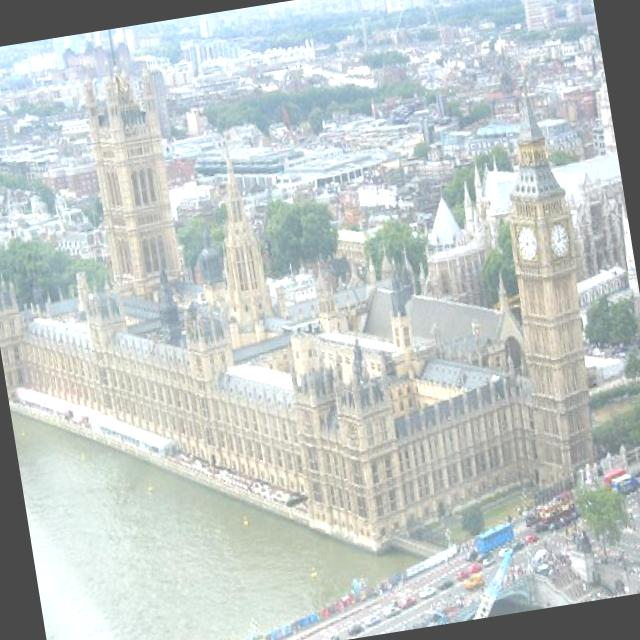Vehicle: (462, 534, 528, 564), (474, 523, 516, 555), (611, 474, 640, 496), (602, 466, 628, 490), (436, 576, 455, 592), (418, 586, 438, 600), (399, 596, 418, 610), (363, 614, 382, 628), (381, 606, 401, 619), (348, 622, 366, 636), (482, 554, 498, 568), (468, 560, 483, 573), (524, 533, 540, 545), (322, 630, 339, 640), (455, 570, 469, 582), (498, 547, 514, 557)
